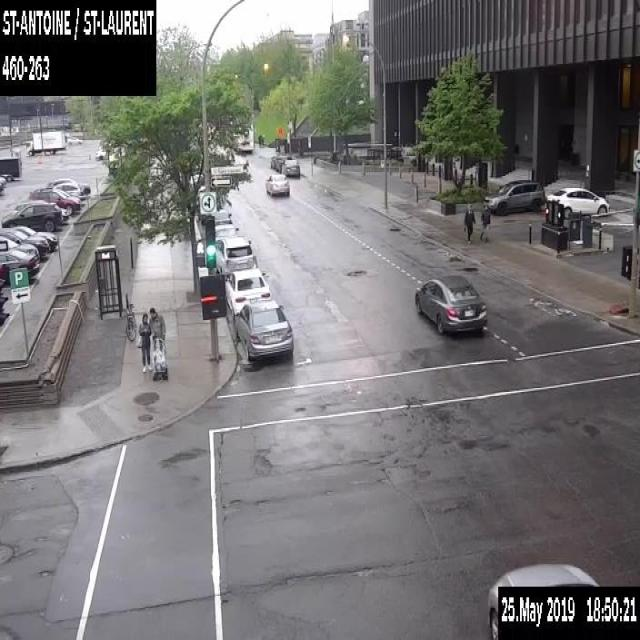construction: (274, 124, 284, 137)
pedestrian: (148, 305, 168, 380), (136, 312, 151, 371), (462, 200, 475, 244), (479, 202, 491, 242), (257, 133, 261, 146), (261, 133, 264, 146)
vehicle: (486, 558, 599, 638), (413, 273, 488, 336), (233, 297, 293, 361), (225, 267, 270, 319), (482, 179, 545, 214), (544, 186, 610, 218), (1, 201, 61, 231), (215, 235, 253, 280), (29, 187, 80, 215), (10, 224, 58, 252), (0, 227, 49, 254), (0, 231, 39, 262), (0, 249, 39, 279), (13, 199, 69, 219), (24, 129, 65, 154), (48, 177, 90, 195), (232, 119, 254, 152), (264, 172, 288, 195), (0, 155, 21, 181), (214, 222, 239, 242), (52, 182, 81, 198), (281, 158, 299, 176), (274, 155, 291, 172), (214, 208, 231, 224), (270, 154, 280, 168), (94, 148, 107, 158), (67, 136, 82, 143), (0, 174, 5, 185), (0, 181, 3, 190), (98, 144, 103, 148)
